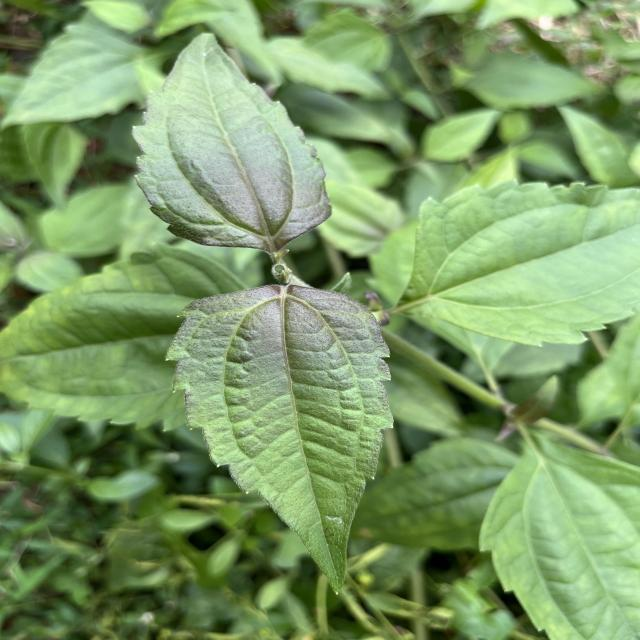Chromolaena odorata: (157, 278, 401, 601), (122, 24, 339, 254)
